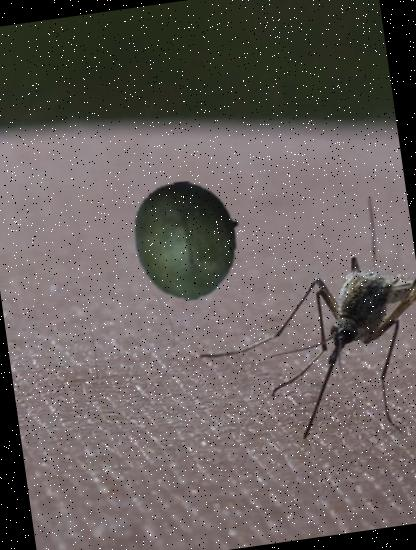Mango: (121, 174, 254, 308)
